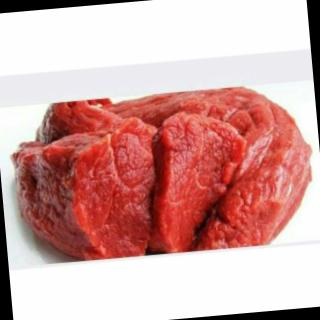Daging Sapi: (10, 82, 318, 266), (11, 123, 158, 267), (158, 109, 256, 257)
